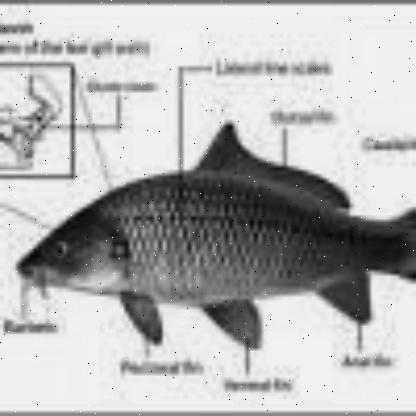ikan-mas: (12, 158, 416, 336)
